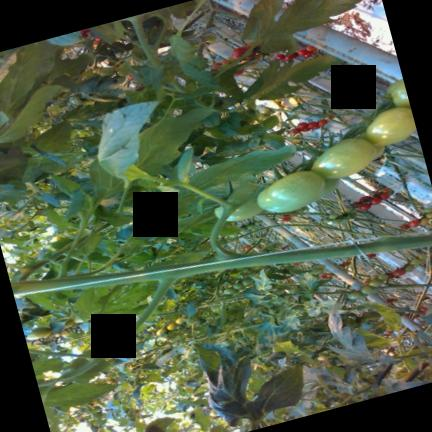6kp_peduncle: (179, 210, 266, 277)
6kp_petiole: (118, 257, 215, 322)
MainStem: (10, 235, 432, 294)
tomato: (257, 170, 323, 211), (310, 137, 374, 177), (365, 106, 415, 145), (213, 183, 261, 220), (386, 78, 409, 107), (318, 178, 338, 197), (27, 326, 51, 339), (115, 61, 132, 75), (232, 45, 246, 57), (69, 94, 83, 104), (97, 67, 113, 75), (347, 290, 361, 298), (368, 278, 382, 286), (360, 285, 373, 293), (392, 267, 405, 275), (63, 318, 74, 327), (370, 195, 381, 204), (357, 202, 370, 209), (155, 326, 166, 334), (310, 267, 322, 274), (223, 286, 235, 293), (407, 219, 419, 226), (409, 257, 421, 264), (379, 191, 389, 199), (377, 273, 388, 280), (232, 281, 243, 288), (241, 277, 252, 284), (316, 353, 327, 360), (260, 106, 271, 113), (60, 328, 69, 336), (404, 263, 413, 271), (359, 195, 371, 201), (166, 322, 176, 329), (297, 121, 307, 128), (307, 121, 317, 128), (317, 118, 327, 125), (421, 206, 432, 212), (116, 75, 124, 83), (297, 48, 307, 54), (175, 316, 183, 323), (424, 211, 432, 218), (420, 216, 428, 223), (379, 186, 390, 191), (302, 51, 311, 57), (417, 252, 426, 258), (353, 200, 362, 206), (305, 44, 313, 50), (292, 127, 299, 133), (231, 289, 239, 294), (238, 286, 245, 291), (245, 283, 253, 287), (301, 127, 309, 130)
